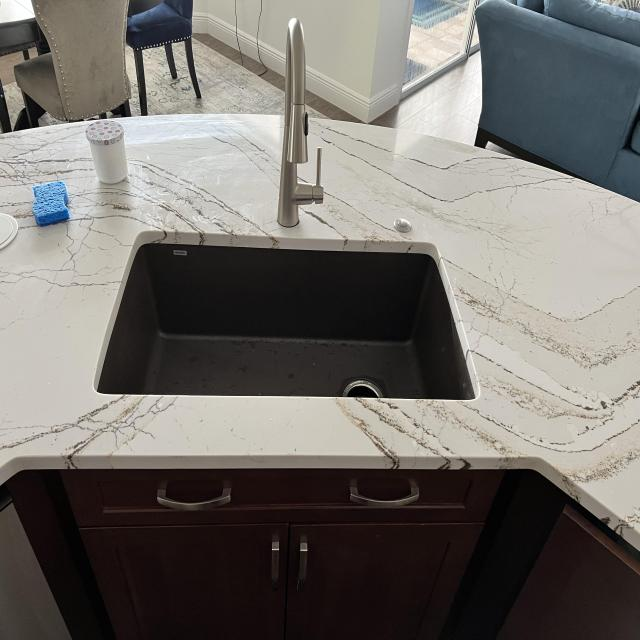Appliance_Sink: (95, 244, 476, 399), (277, 18, 324, 230)
Cabinet_Shaker: (3, 469, 640, 640)
Countertop_Marble: (0, 114, 640, 539)
